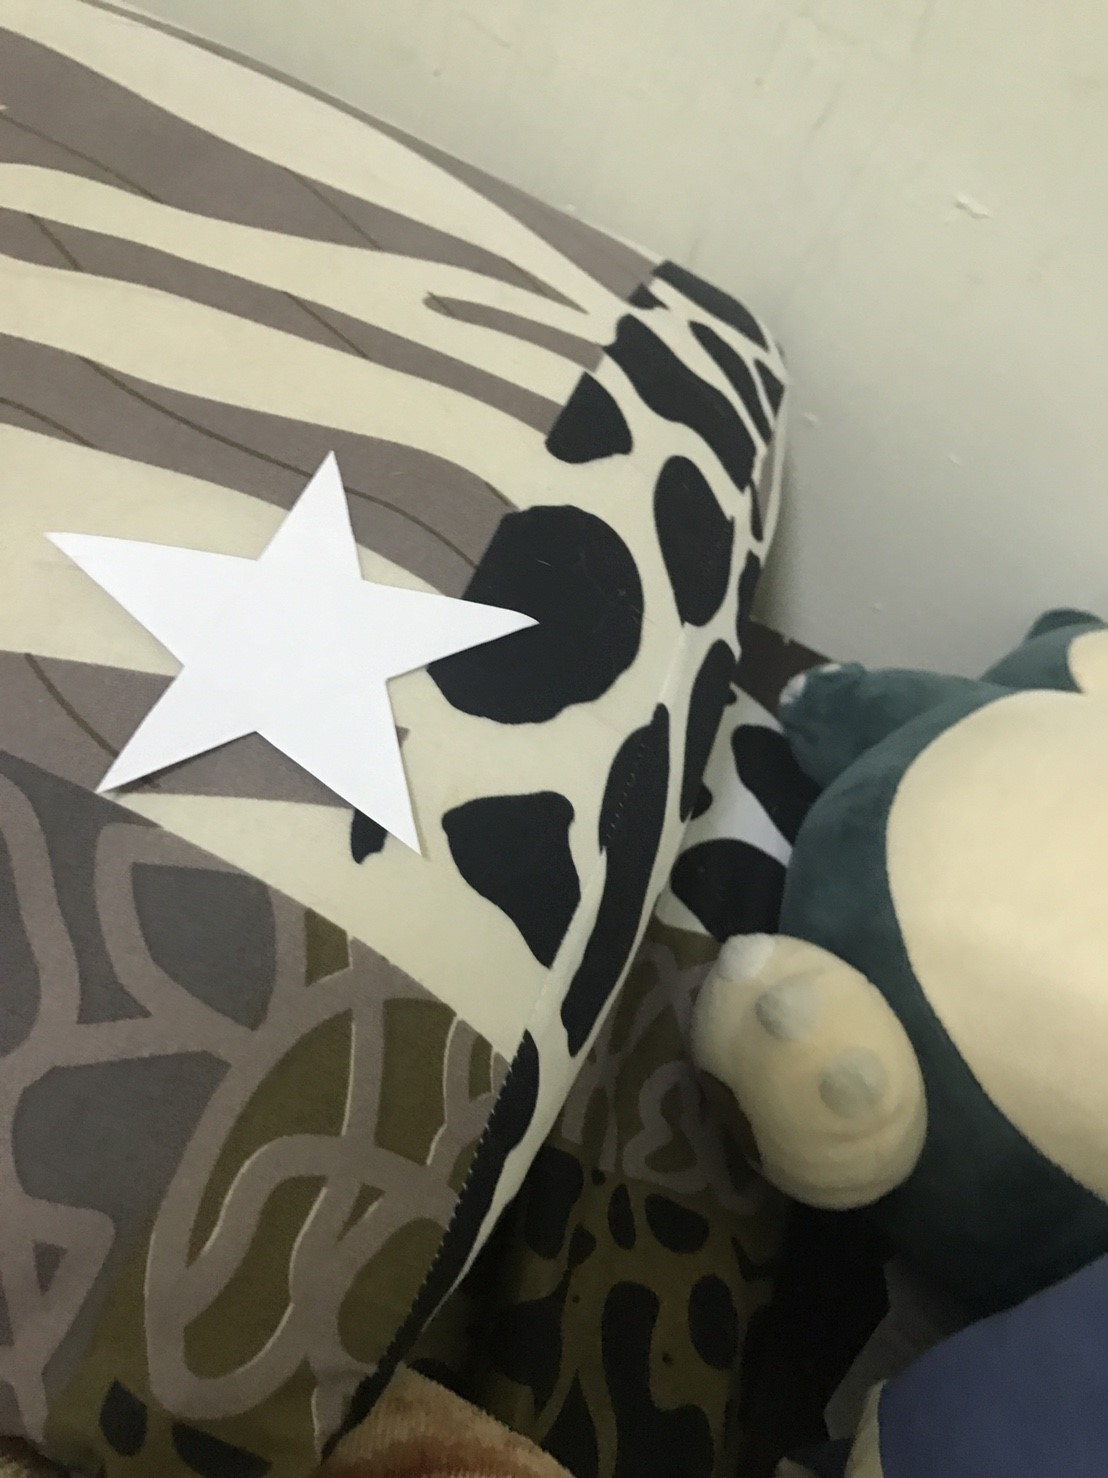star: (27, 435, 551, 888)
